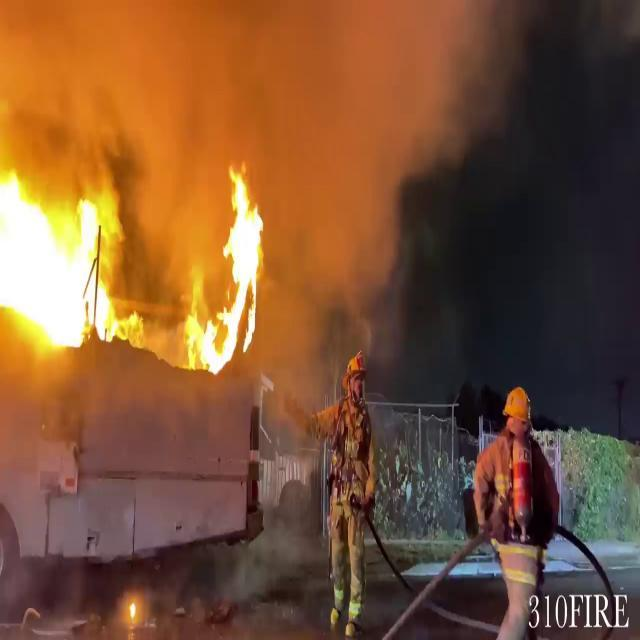Fire: (0, 156, 132, 354), (182, 164, 270, 378)
Smoke: (0, 0, 535, 213)
